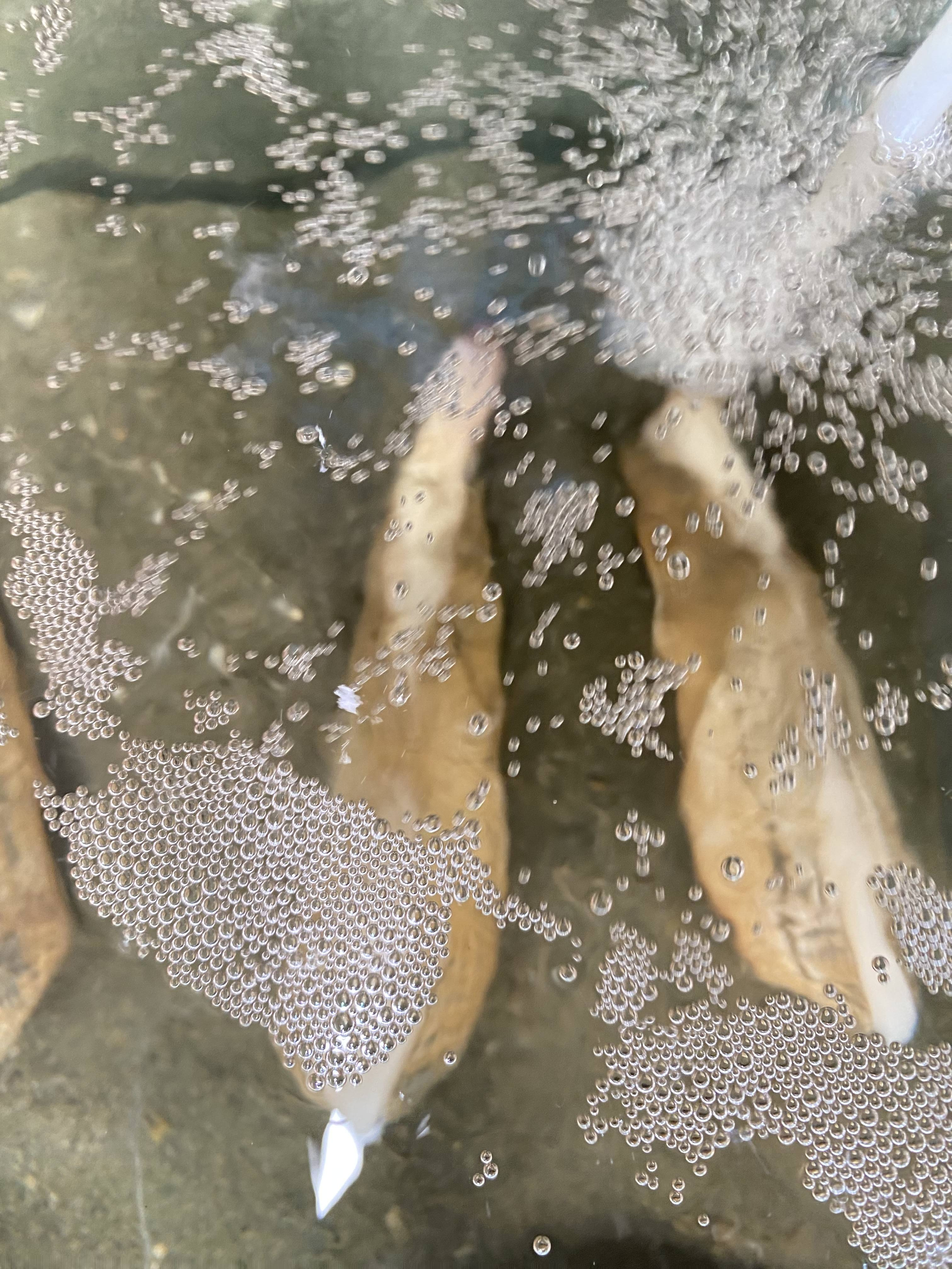Healthy: (619, 393, 916, 1041), (335, 338, 508, 888), (305, 900, 498, 1171)
